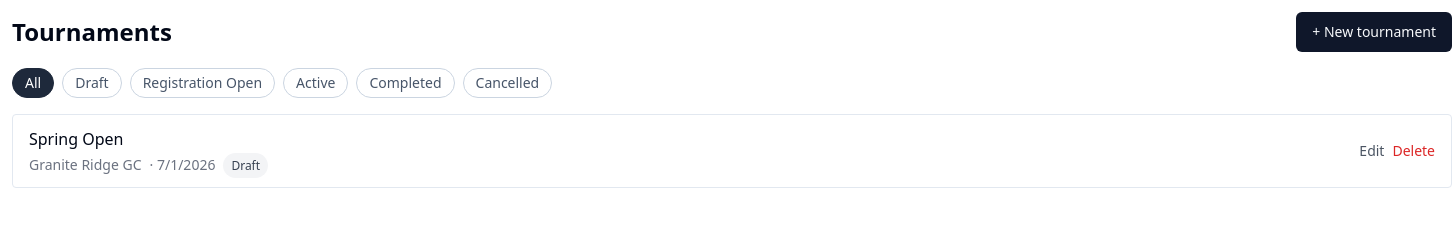
Test: TournamentListClient › shows error when deleteTournamentAction returns error
This screenshot has width=1452, height=247.
Click the button "Delete" at (1414, 151), box [1392,141,1435,161]
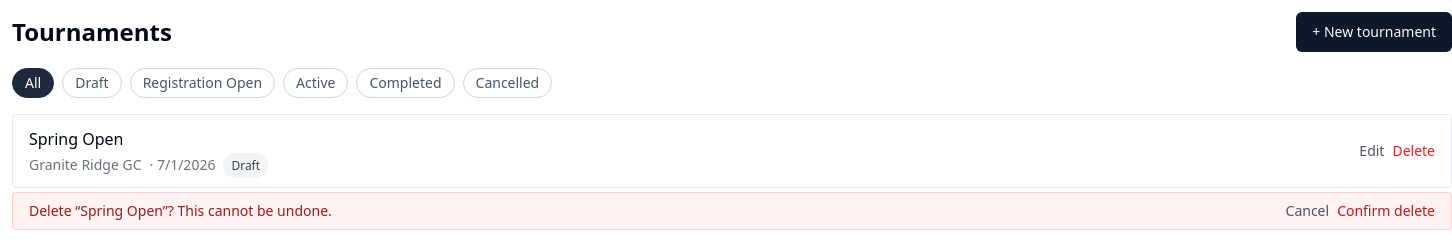
Click the button "Confirm delete" at (1386, 211), box [1337,201,1435,221]
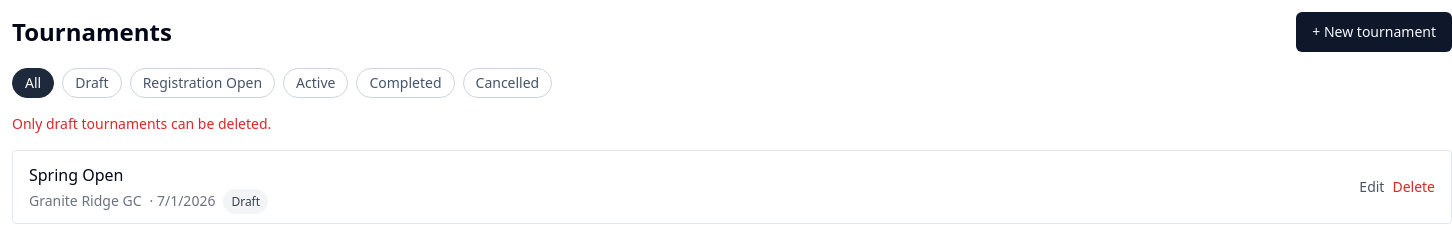
expect the message shows "draft": met, box [12,114,271,133]
